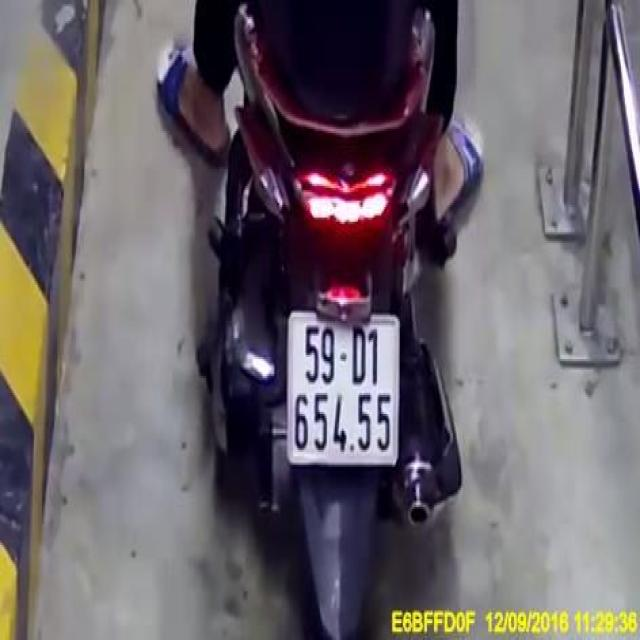LP: (286, 312, 399, 466)
